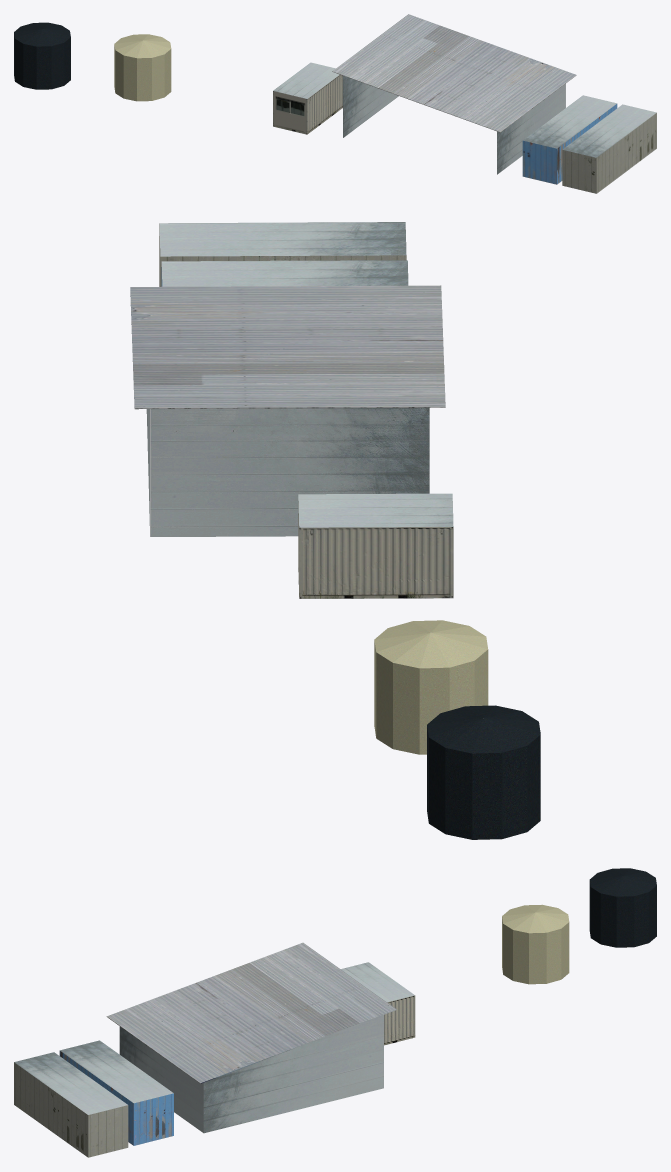
Rendered from llmg_bld9.gltf.
The picture shows the model from 3 angles, top to bottom: view 1: azimuth 30°, elevation 25°; view 2: azimuth 150°, elevation 25°; view 3: azimuth 270°, elevation 25°; orthographic projection. The views are drawn at different scales.
Visible parts, largest first — view 1: node2, node1; view 2: node2, node1; view 3: node2, node1.
Boxes of the visible parts, left/top/right/bottom form: node2: left=14, top=14, right=575, bottom=134; node1: left=273, top=62, right=656, bottom=193; node2: left=130, top=285, right=540, bottom=839; node1: left=130, top=222, right=453, bottom=536; node2: left=107, top=868, right=656, bottom=1083; node1: left=14, top=962, right=414, bottom=1157.
Size of the model in its own units: 30.23 by 4.74 by 34.45.
